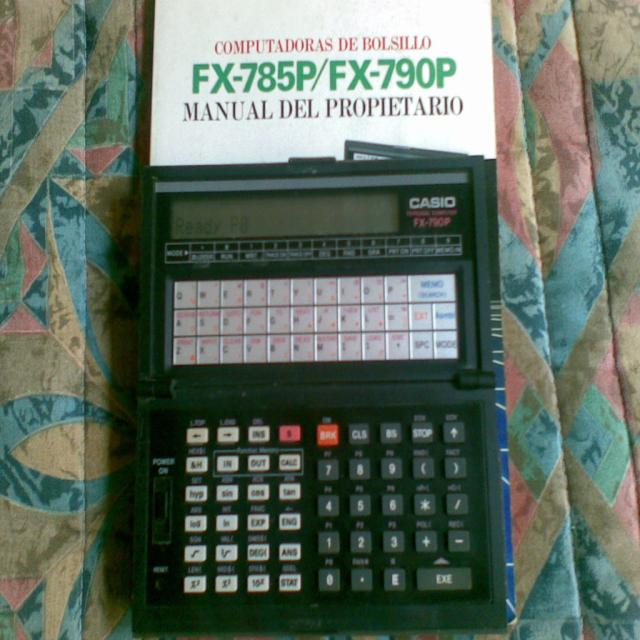Calculator: (130, 156, 510, 639)
